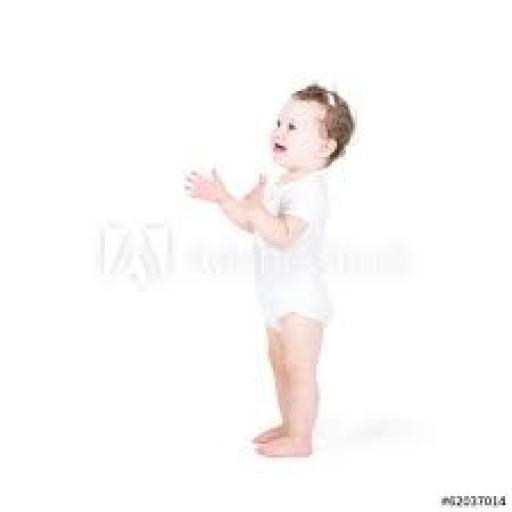clapping: (180, 82, 357, 460)
